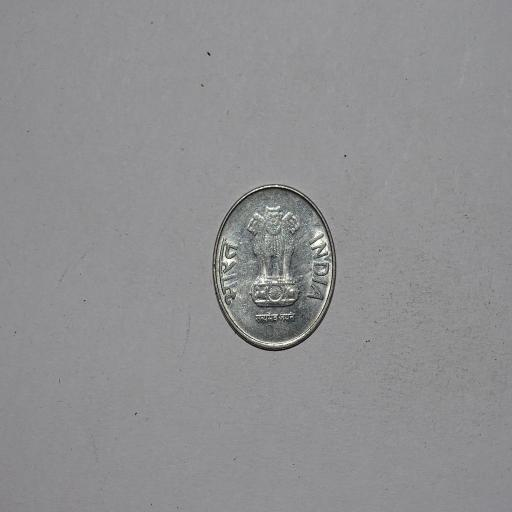rupee2: (208, 184, 338, 355)
